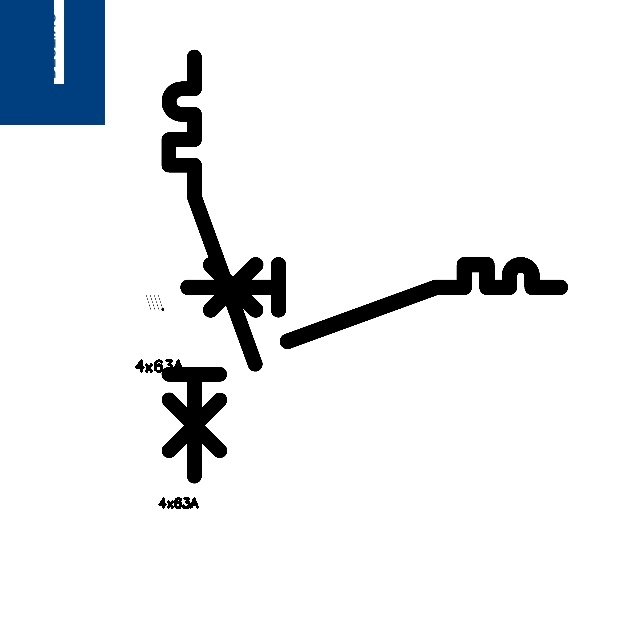interruptor_termomagnetico: (158, 46, 266, 487), (178, 255, 569, 350)
